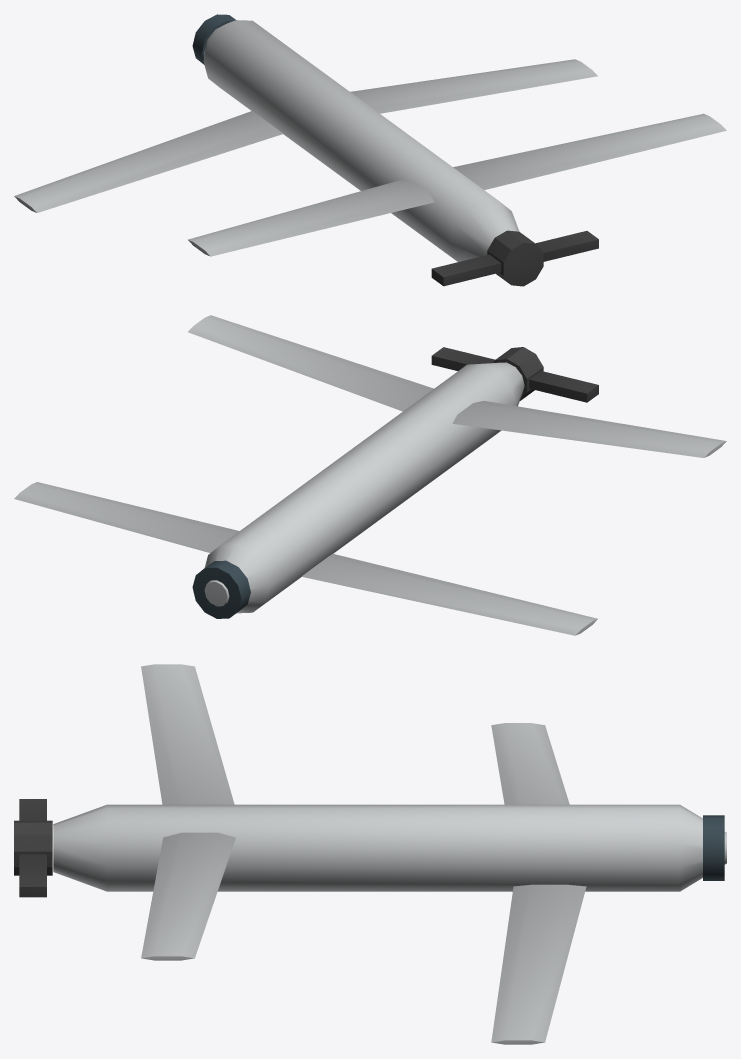
File: usa_lm_sw300.glb
The picture shows the model from 3 angles, top to bottom: view 1: azimuth 30°, elevation 25°; view 2: azimuth 150°, elevation 25°; view 3: azimuth 270°, elevation 25°; orthographic projection. The views are drawn at different scales.
Parts seen in each view (by area): view 1: body, propy_0; view 2: body, propy_0; view 3: body, propy_0.
Part boxes in pixels (<box>): body: <box>14,14,726,261</box>; propy_0: <box>431,230,598,286</box>; body: <box>14,315,726,635</box>; propy_0: <box>431,347,598,402</box>; body: <box>53,664,726,1044</box>; propy_0: <box>14,799,52,897</box>.
Size of the model in its own units: 0.68 by 0.0793 by 0.6457.
